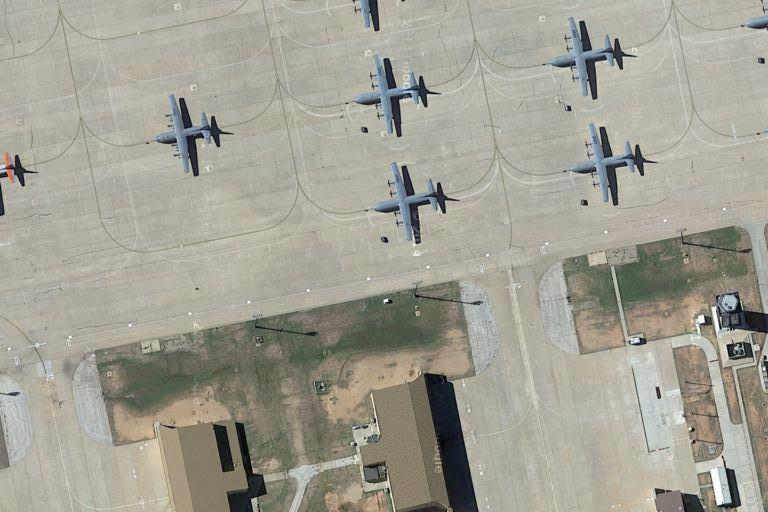C-130: (351, 49, 434, 137), (547, 13, 629, 98), (370, 160, 452, 244), (154, 85, 225, 179), (566, 123, 649, 203)
